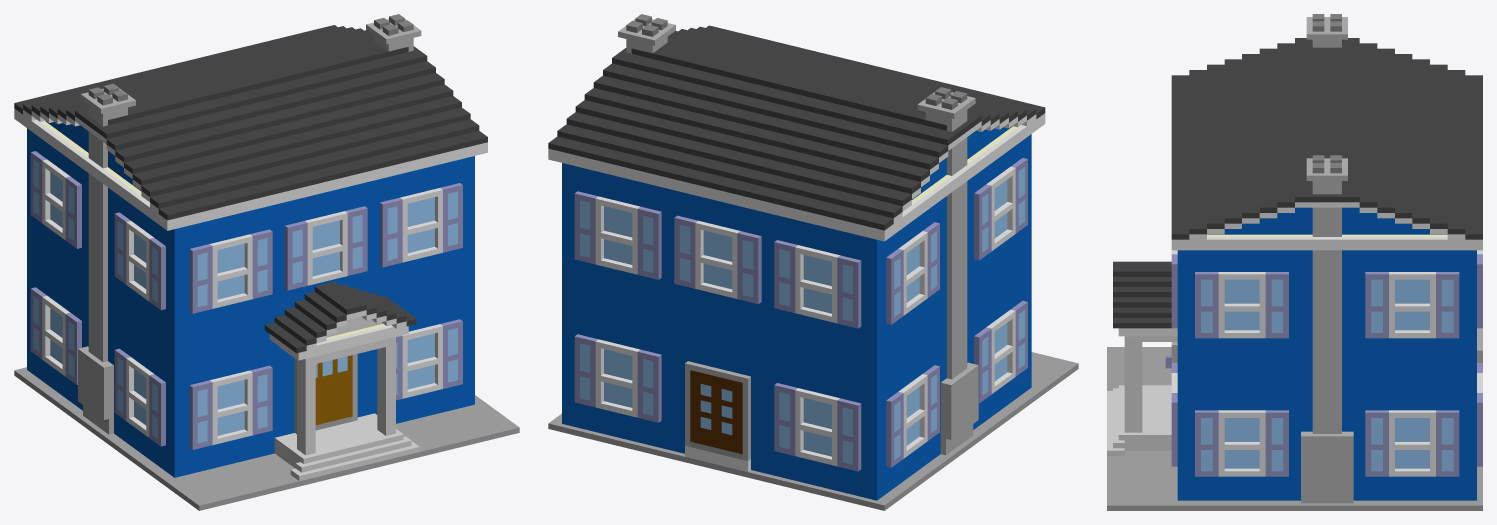
File: obj_house4c.obj
3 views of the same model, side by side, from view 1: azimuth 30°, elevation 25°; view 2: azimuth 150°, elevation 25°; view 3: azimuth 270°, elevation 25° (orthographic). The views are drawn at different scales.
Size of the model in its own units: 6.4 by 6.4 by 6.4.
Materials: 1 (1 with a texture image).
